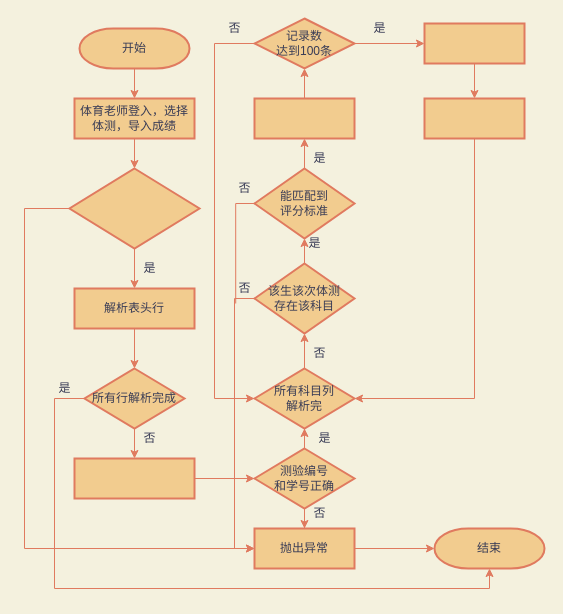
Some shapes in this 563 by 614 pixel diagram are drawn without their labels. The shapes that lost their labels are listed below. From the top down, each one's centre as x and y in pixels, then its label:
the point at 474,43: 保存一次数据库
the point at 304,118: 暂存一条成绩记录
the point at 474,118: 清空暂存区
the point at 134,208: 表头包含 测验编号和成绩
the point at 134,478: 解析当前行数据
